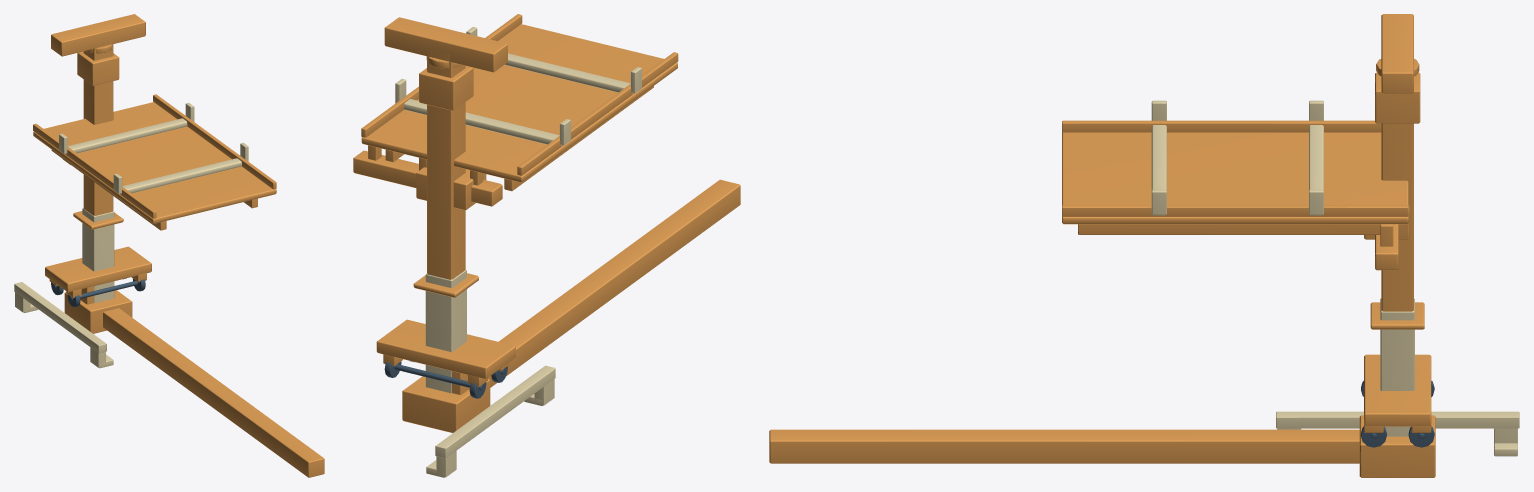
The model's file is track-wing.glb.
3 renders of one model, left to right at view 1: azimuth 30°, elevation 25°; view 2: azimuth 150°, elevation 25°; view 3: azimuth 270°, elevation 25°, orthographic. The views are drawn at different scales.
Visible parts, largest first — view 1: wing_paint_platform, lay_gantry_beam, wing_paint_mast, wing_cream_shelf, wing_paint_truck, lay_cream_jaw_left, lay_cream_upper, lay_paint_trolley, wing_iron_truck; view 2: wing_paint_platform, wing_paint_mast, lay_gantry_beam, wing_paint_truck, wing_cream_shelf, lay_cream_jaw_left, lay_cream_upper, lay_paint_trolley, wing_iron_truck; view 3: wing_paint_platform, lay_gantry_beam, wing_paint_mast, wing_paint_truck, lay_cream_jaw_left, wing_cream_shelf, lay_paint_trolley, lay_cream_upper, wing_iron_truck.
Boxes of the visible parts, x1,y1,x2,y2 form: wing_paint_platform: (33,94,276,230); lay_gantry_beam: (103,308,324,477); wing_paint_mast: (51,14,145,229); wing_cream_shelf: (59,102,248,194); wing_paint_truck: (45,246,151,298); lay_cream_jaw_left: (14,282,113,368); lay_cream_upper: (82,208,114,303); lay_paint_trolley: (64,290,132,333); wing_iron_truck: (51,278,145,307); wing_paint_platform: (353,14,678,206); wing_paint_mast: (384,17,507,297); lay_gantry_beam: (488,179,740,387); wing_paint_truck: (376,319,515,386); wing_cream_shelf: (395,27,641,146); lay_cream_jaw_left: (426,365,555,477); lay_cream_upper: (425,269,466,393); lay_paint_trolley: (402,376,490,432); wing_iron_truck: (384,361,507,398); wing_paint_platform: (1062,120,1408,270); lay_gantry_beam: (769,429,1359,463); wing_paint_mast: (1364,14,1424,329); wing_paint_truck: (1364,354,1431,432); lay_cream_jaw_left: (1276,411,1519,456); wing_cream_shelf: (1151,100,1323,215); lay_paint_trolley: (1359,415,1435,477); lay_cream_upper: (1380,298,1414,436); wing_iron_truck: (1361,381,1434,447).
Bounding box in the file's own units: 2.1 × 4.4 × 6.93.
